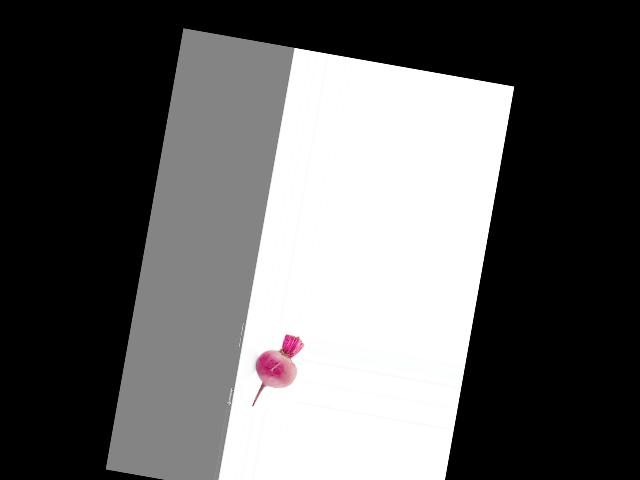beet: (248, 329, 304, 412)
